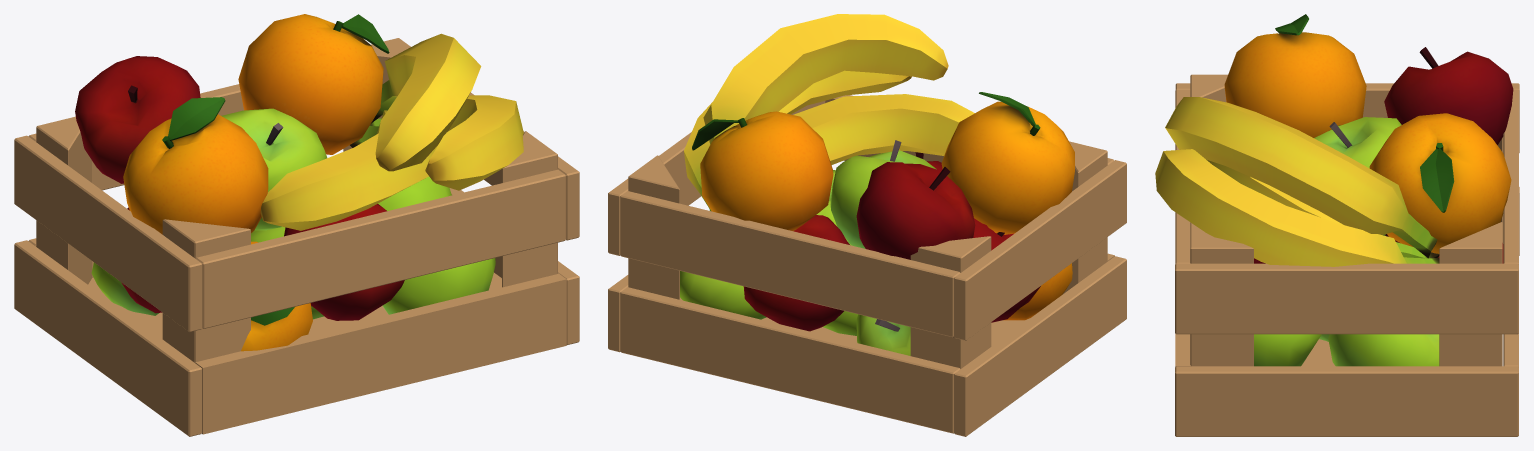
File: SM_Item_06.fbx
3 renders of one model, left to right at view 1: azimuth 30°, elevation 25°; view 2: azimuth 150°, elevation 25°; view 3: azimuth 270°, elevation 25°, orthographic. The views are drawn at different scales.
Visible parts, largest first — view 1: Box014.002; view 2: Box014.002; view 3: Box014.002.
Part boxes in pixels (<box>): Box014.002: <box>14,14,579,436</box>; Box014.002: <box>608,14,1126,436</box>; Box014.002: <box>1155,14,1519,436</box>.
Bounding box in the file's own units: 2.37 × 1.66 × 1.95.
